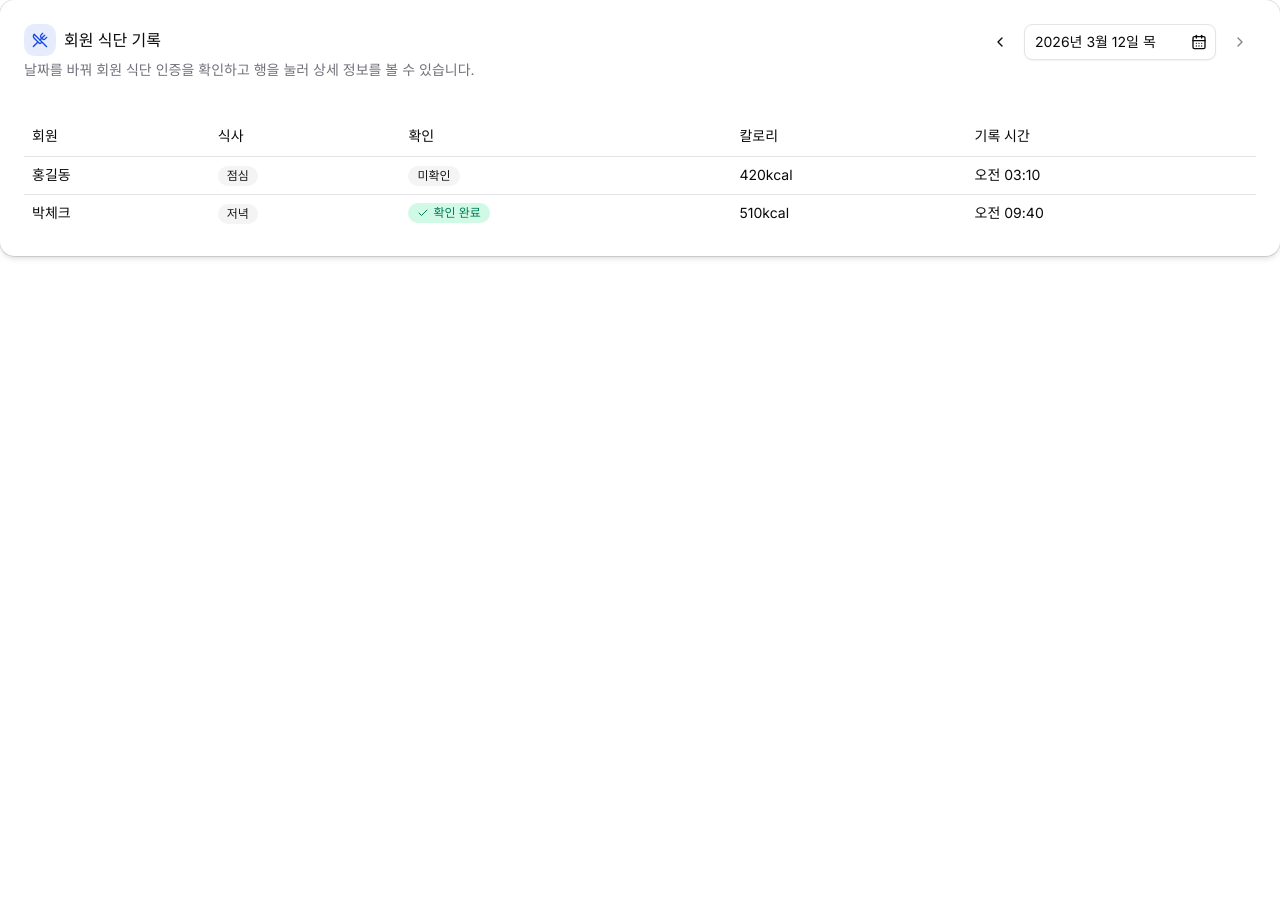
MealMemberTable › 회원 식단 행을 누르면 상세 다이얼로그와 최근 기록을 보여준다
Click the text "홍길동" at (51, 174), box [24, 156, 210, 194]
(page scrolled)
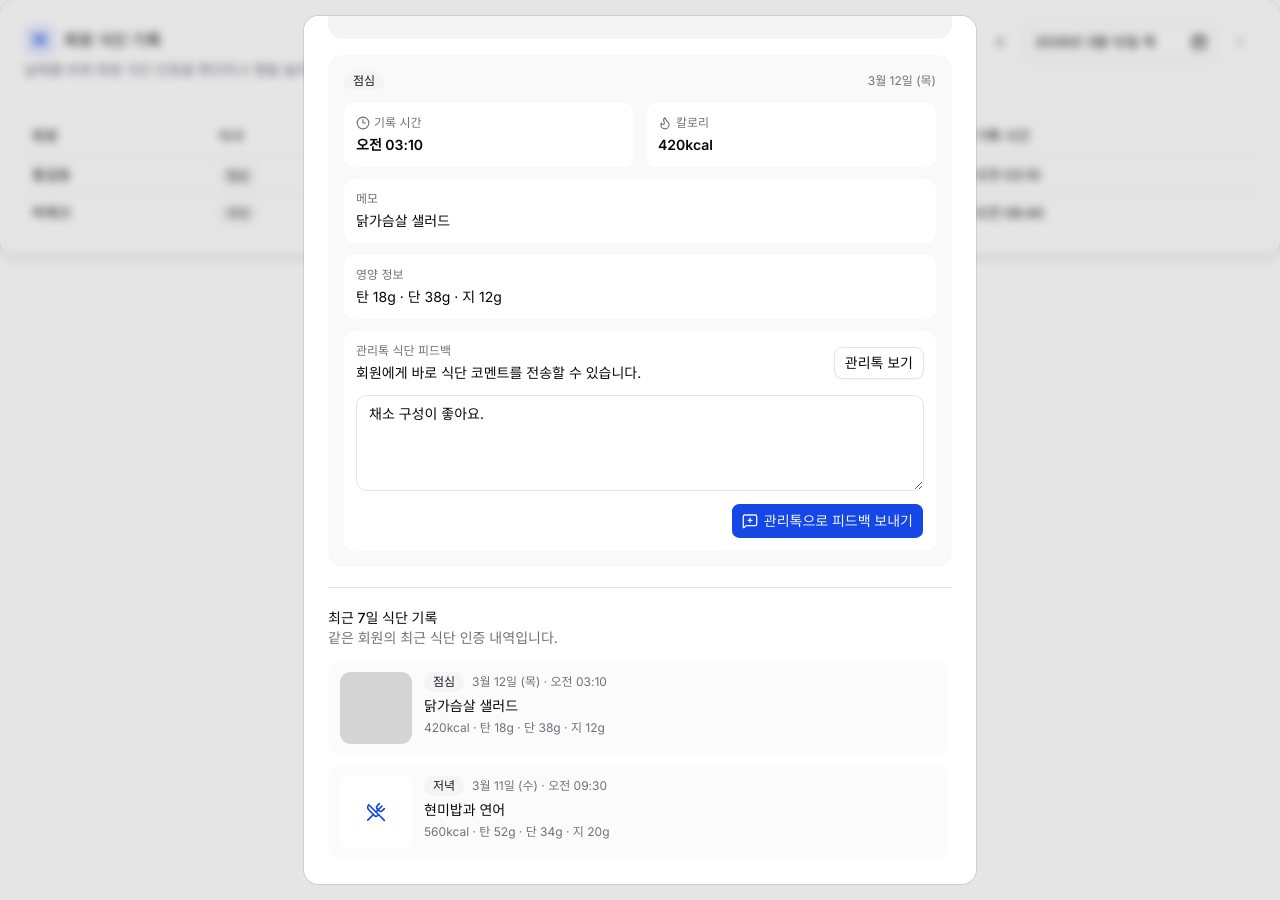
Check: the text "닭가슴살 샐러드" below "메모" is shown, box [356, 212, 450, 229]
Check: the heading "최근 7일 식단 기록" is shown, box [328, 609, 437, 626]
Check: the text "현미밥과 연어" is shown, box [424, 801, 505, 818]
